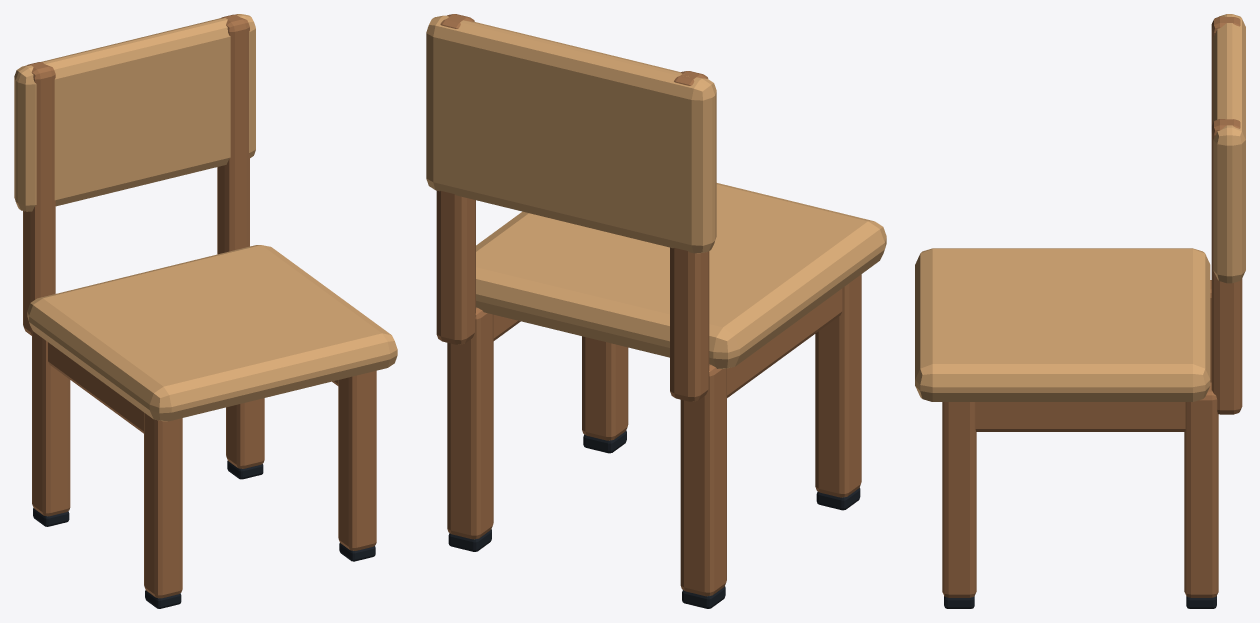
Rendered from dining-chair.glb.
3 renders of one model, left to right at view 1: azimuth 30°, elevation 25°; view 2: azimuth 150°, elevation 25°; view 3: azimuth 270°, elevation 25°, orthographic. The views are drawn at different scales.
Visible parts, largest first — view 1: diningChair · Natural oak, diningChair · Warm oak, diningChair · Soft black; view 2: diningChair · Natural oak, diningChair · Warm oak, diningChair · Soft black; view 3: diningChair · Natural oak, diningChair · Warm oak, diningChair · Soft black.
Part boxes in pixels (<box>): diningChair · Natural oak: <box>14,14,397,421</box>; diningChair · Warm oak: <box>23,14,376,598</box>; diningChair · Soft black: <box>33,460,375,608</box>; diningChair · Natural oak: <box>426,15,886,368</box>; diningChair · Warm oak: <box>436,14,861,596</box>; diningChair · Soft black: <box>448,430,860,608</box>; diningChair · Natural oak: <box>915,14,1245,401</box>; diningChair · Warm oak: <box>942,16,1242,597</box>; diningChair · Soft black: <box>944,596,1216,608</box>.
Size of the model in its own units: 0.52 by 0.9 by 0.56.
